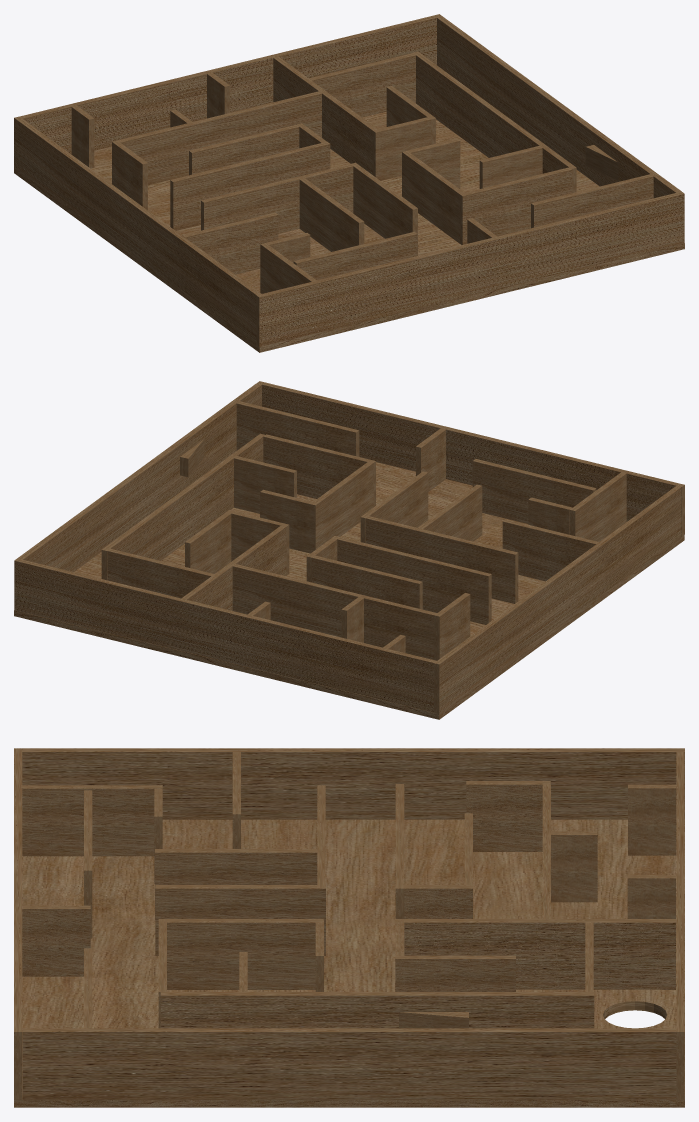
File: Labyrinth_1.obj
3 views of the same model, one above another, from view 1: azimuth 30°, elevation 25°; view 2: azimuth 150°, elevation 25°; view 3: azimuth 270°, elevation 25° (orthographic). The views are drawn at different scales.
Parts seen in each view (by area): view 1: Labyrinth_lvl1_Labyrinth_2; view 2: Labyrinth_lvl1_Labyrinth_2; view 3: Labyrinth_lvl1_Labyrinth_2.
Boxes of the visible parts, box(x1,y1,x2,y2) form: Labyrinth_lvl1_Labyrinth_2: box(14, 14, 684, 352); Labyrinth_lvl1_Labyrinth_2: box(14, 381, 684, 719); Labyrinth_lvl1_Labyrinth_2: box(14, 748, 684, 1107).
Size of the model in its own units: 24.68 by 3.09 by 24.67.
Materials: 1 (1 with a texture image).
